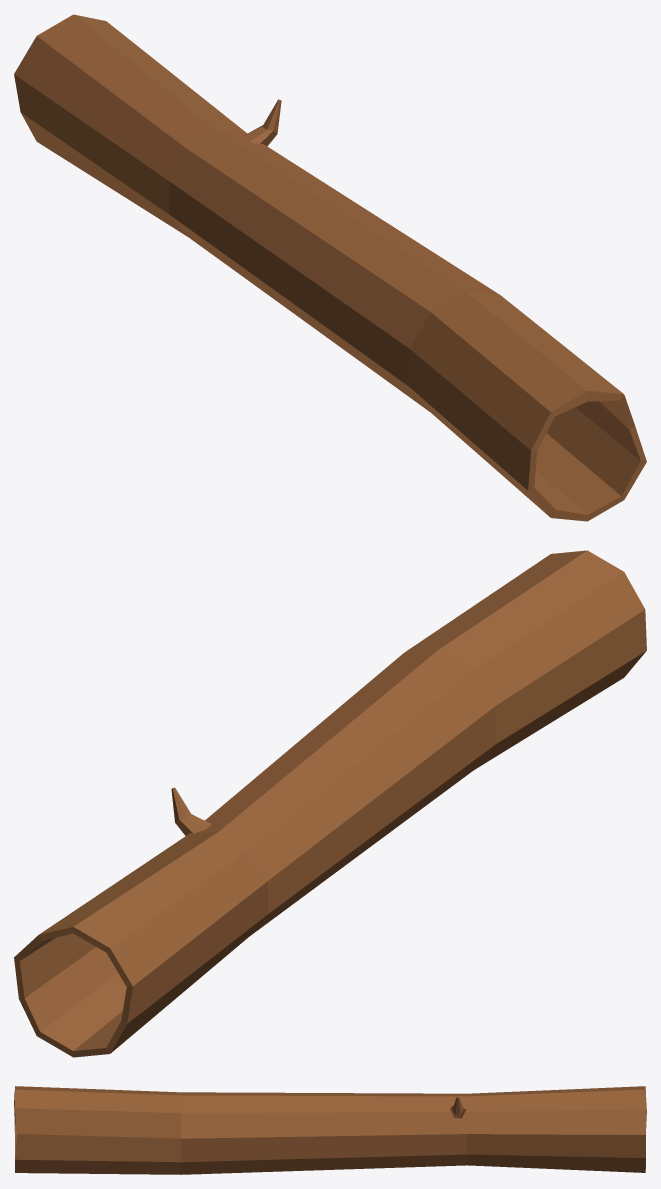
File: Billet_01.fbx
The picture shows the model from 3 angles, top to bottom: view 1: azimuth 30°, elevation 25°; view 2: azimuth 150°, elevation 25°; view 3: azimuth 270°, elevation 25°; orthographic projection. The views are drawn at different scales.
Parts seen in each view (by area): view 1: Billet_01; view 2: Billet_01; view 3: Billet_01.
Boxes of the visible parts, x1,y1,x2,y2 form: Billet_01: (14, 14, 646, 521); Billet_01: (14, 550, 646, 1057); Billet_01: (14, 1086, 646, 1174).
Size of the model in its own units: 64.13 by 68.48 by 444.
